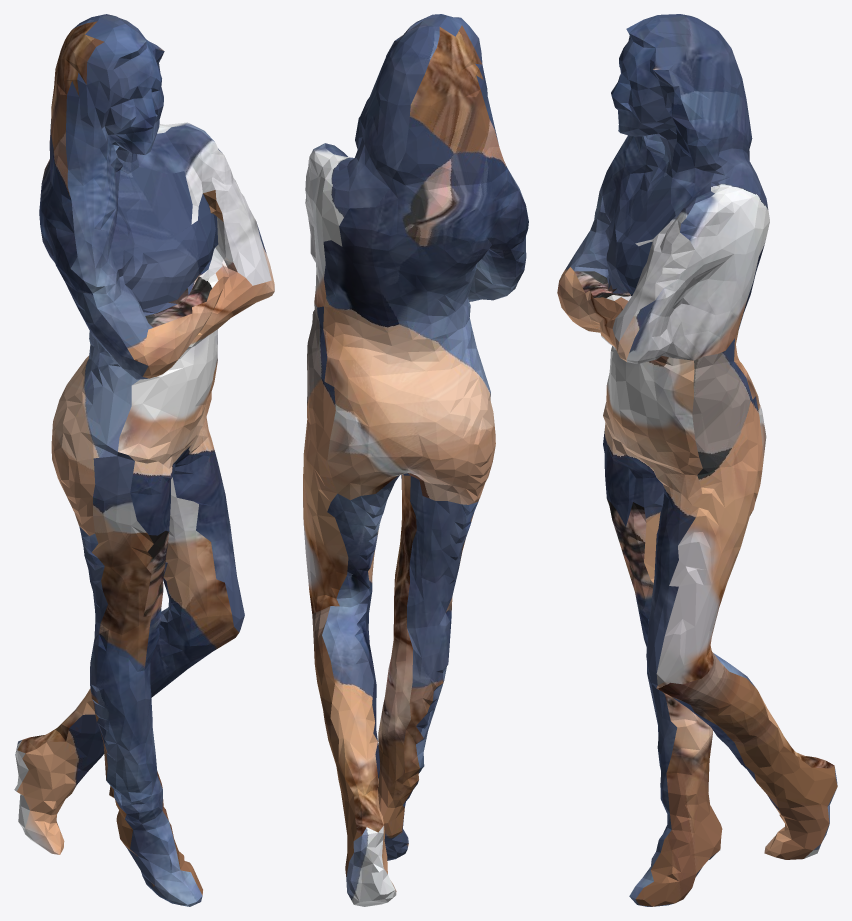
The picture shows the model from 3 angles, left to right: view 1: azimuth 30°, elevation 25°; view 2: azimuth 150°, elevation 25°; view 3: azimuth 270°, elevation 25°; orthographic projection. The views are drawn at different scales.
Visible parts, largest first — view 1: wm_1; view 2: wm_1; view 3: wm_1.
Part boxes in pixels (x1,y1,x2,y2): wm_1: [14, 14, 274, 906]; wm_1: [303, 14, 528, 906]; wm_1: [557, 14, 837, 906].
Bounding box in the file's own units: 0.4121 × 1.66 × 0.4918.
Materials: 1 (1 with a texture image).
